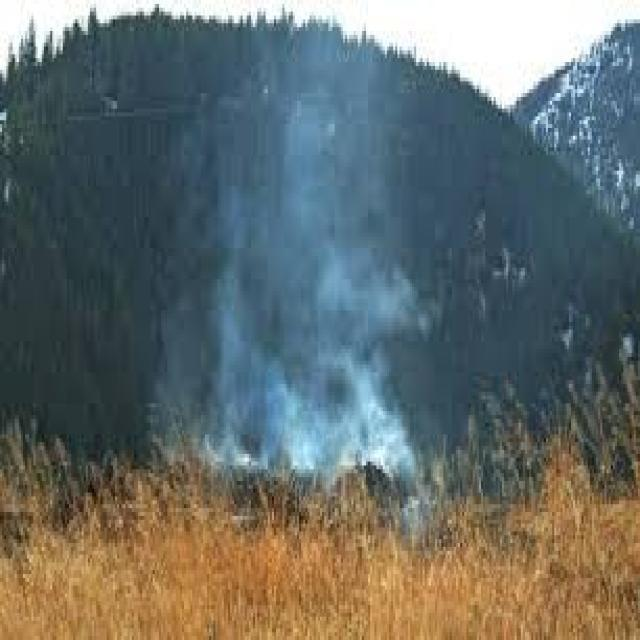Smoke: (200, 266, 420, 498)
